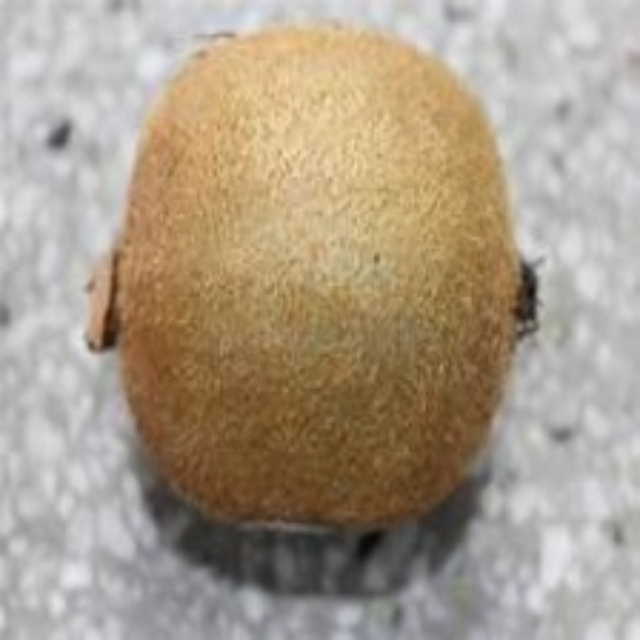kiwi: (135, 20, 531, 538)
